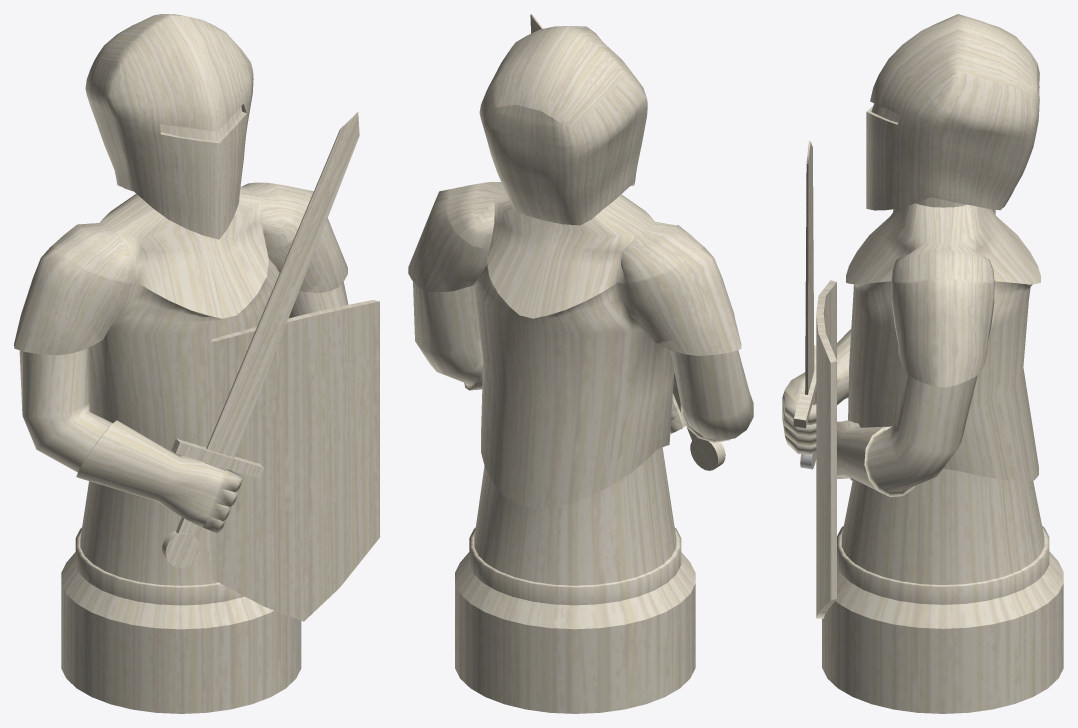
File: Knight,white.fbx
3 views of the same model, side by side, from view 1: azimuth 30°, elevation 25°; view 2: azimuth 150°, elevation 25°; view 3: azimuth 270°, elevation 25° (orthographic).
Parts seen in each view (by area): view 1: Knight_white; view 2: Knight_white; view 3: Knight_white.
Part boxes in pixels (x1,y1,x2,y2): Knight_white: [14, 14, 379, 713]; Knight_white: [408, 14, 753, 713]; Knight_white: [782, 14, 1063, 713].
Size of the model in its own units: 58.91 by 108 by 42.86.
Materials: 1 (1 with a texture image).
